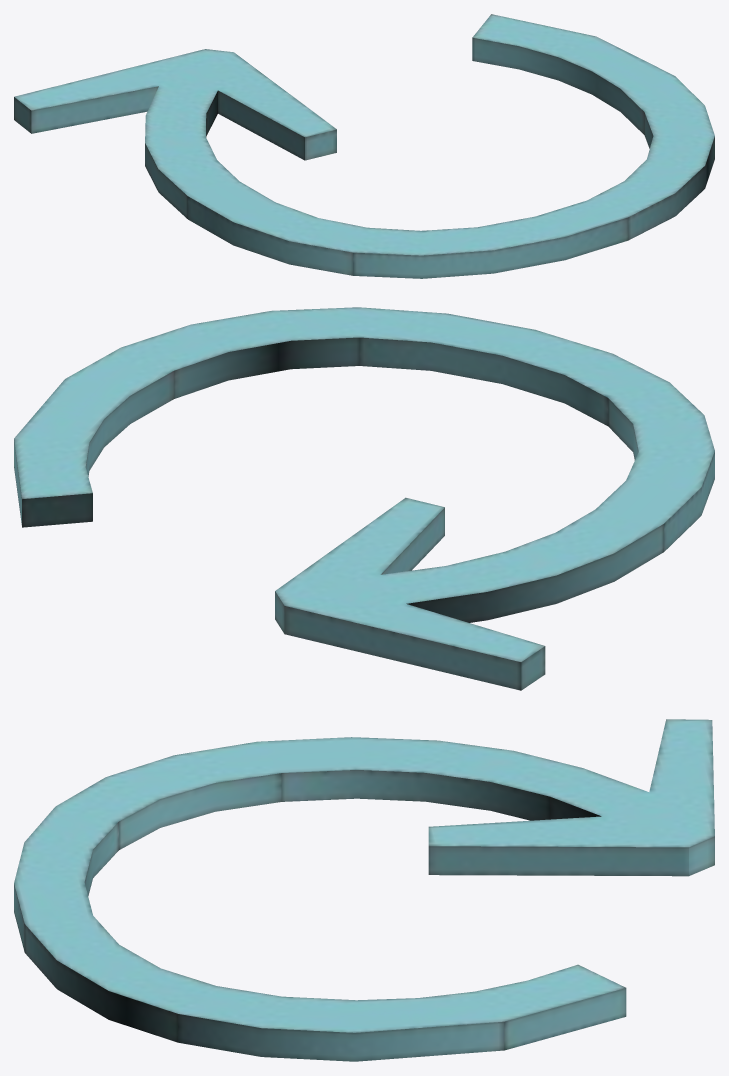
Rendered from reset.obj.
3 renders of one model, top to bottom at view 1: azimuth 30°, elevation 25°; view 2: azimuth 150°, elevation 25°; view 3: azimuth 270°, elevation 25°, orthographic. The views are drawn at different scales.
Parts seen in each view (by area): view 1: Text001; view 2: Text001; view 3: Text001.
Boxes of the visible parts, bbox=[...] form: Text001: bbox=[14, 14, 714, 278]; Text001: bbox=[14, 307, 714, 690]; Text001: bbox=[14, 719, 714, 1061].
Bounding box in the file's own units: 11.66 × 0.5 × 11.01.
1 material, 1 textured.
